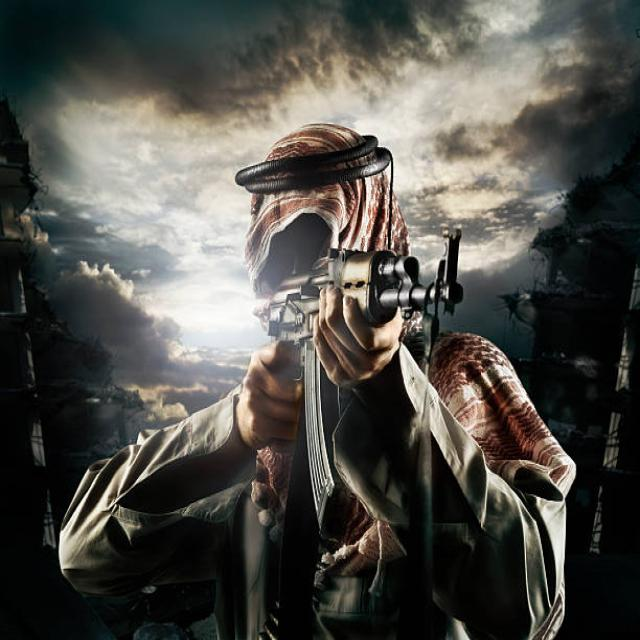soldier: (60, 152, 605, 640)
